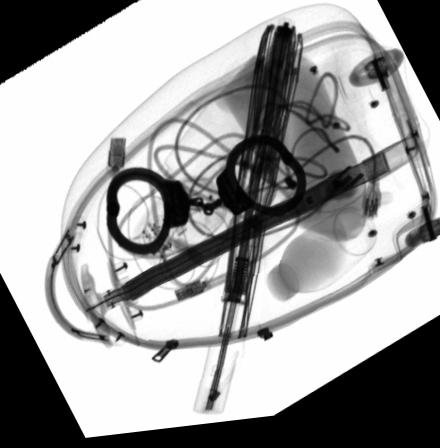HandCuffs: (103, 138, 308, 261)
